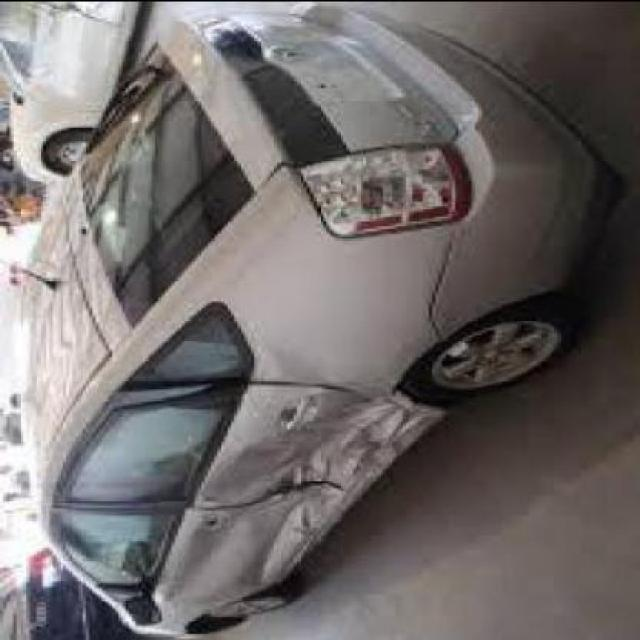damage: (175, 374, 449, 605)
